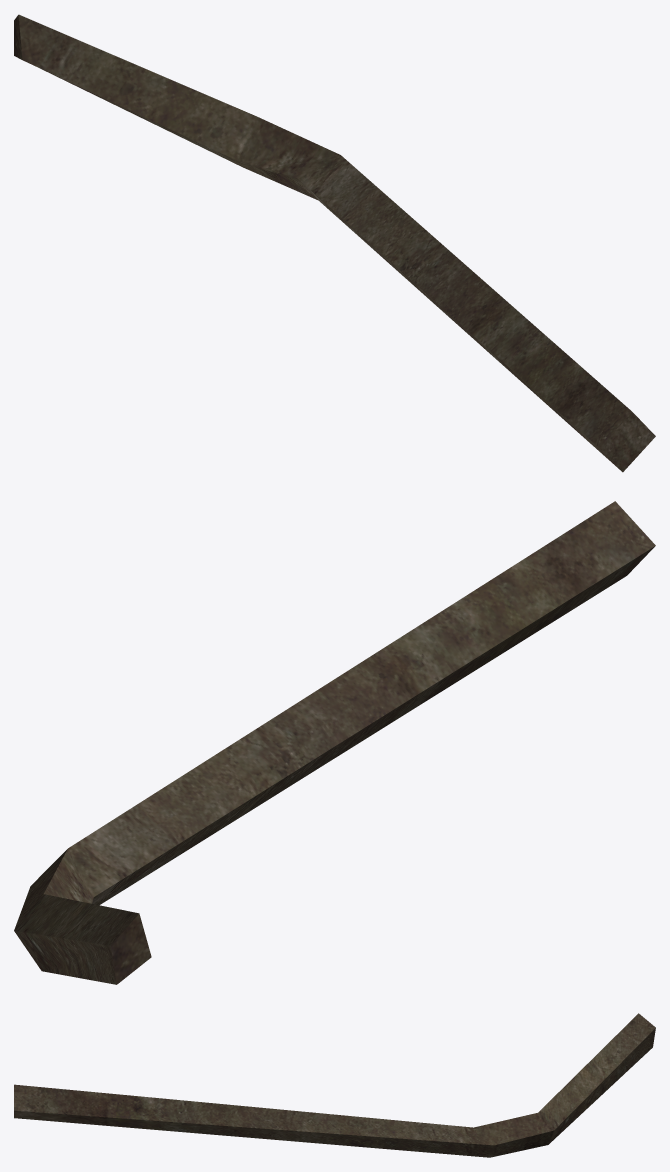
Rendered from TI_IronBar_12.fbx.
The picture shows the model from 3 angles, top to bottom: view 1: azimuth 30°, elevation 25°; view 2: azimuth 150°, elevation 25°; view 3: azimuth 270°, elevation 25°; orthographic projection. The views are drawn at different scales.
Visible parts, largest first — view 1: TI_IronBar_12; view 2: TI_IronBar_12; view 3: TI_IronBar_12.
Part boxes in pixels (left/top/right/bottom): TI_IronBar_12: left=14, top=14, right=655, bottom=472; TI_IronBar_12: left=14, top=501, right=655, bottom=984; TI_IronBar_12: left=14, top=1013, right=655, bottom=1157.
Size of the model in its own units: 0.1808 by 0.1195 by 0.7781.
